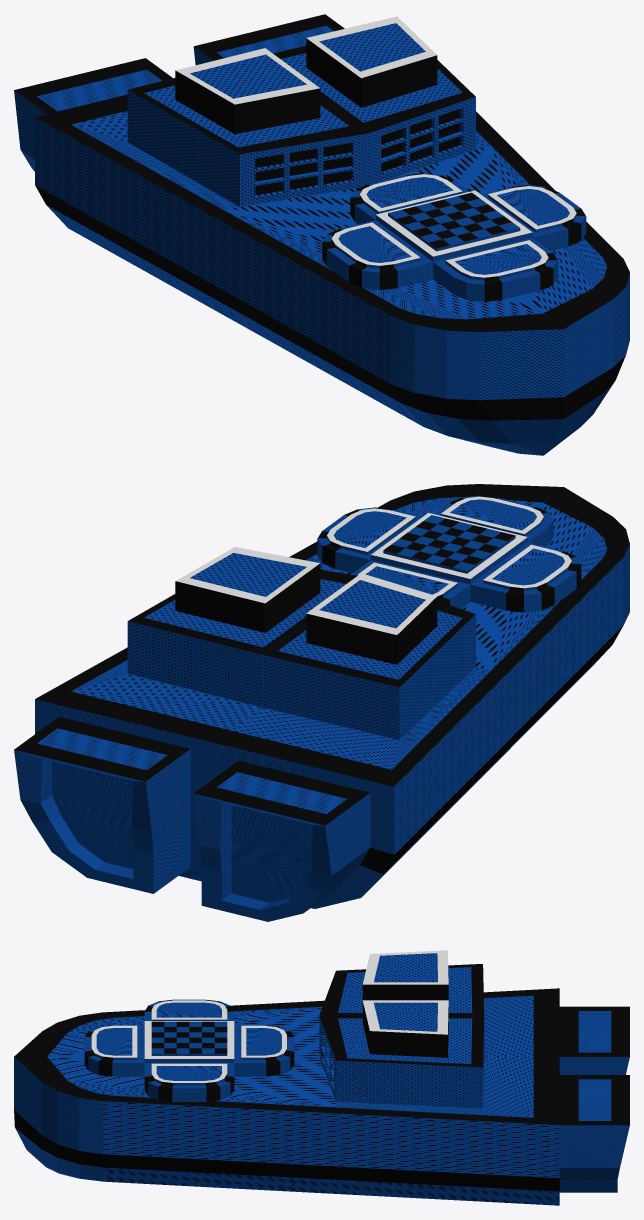
File: BLUE_RepairShip.fbx
3 views of the same model, one above another, from view 1: azimuth 30°, elevation 25°; view 2: azimuth 150°, elevation 25°; view 3: azimuth 270°, elevation 25° (orthographic). The views are drawn at different scales.
Visible parts, largest first — view 1: Cube, Cube.001; view 2: Cube, Cube.001; view 3: Cube, Cube.001.
Boxes of the visible parts, x1,y1,x2,y2 form: Cube: (14, 14, 629, 455); Cube.001: (322, 173, 586, 301); Cube: (14, 484, 629, 921); Cube.001: (317, 495, 581, 612); Cube: (14, 950, 629, 1205); Cube.001: (84, 999, 294, 1101).
Size of the model in its own units: 443 by 264 by 843.
